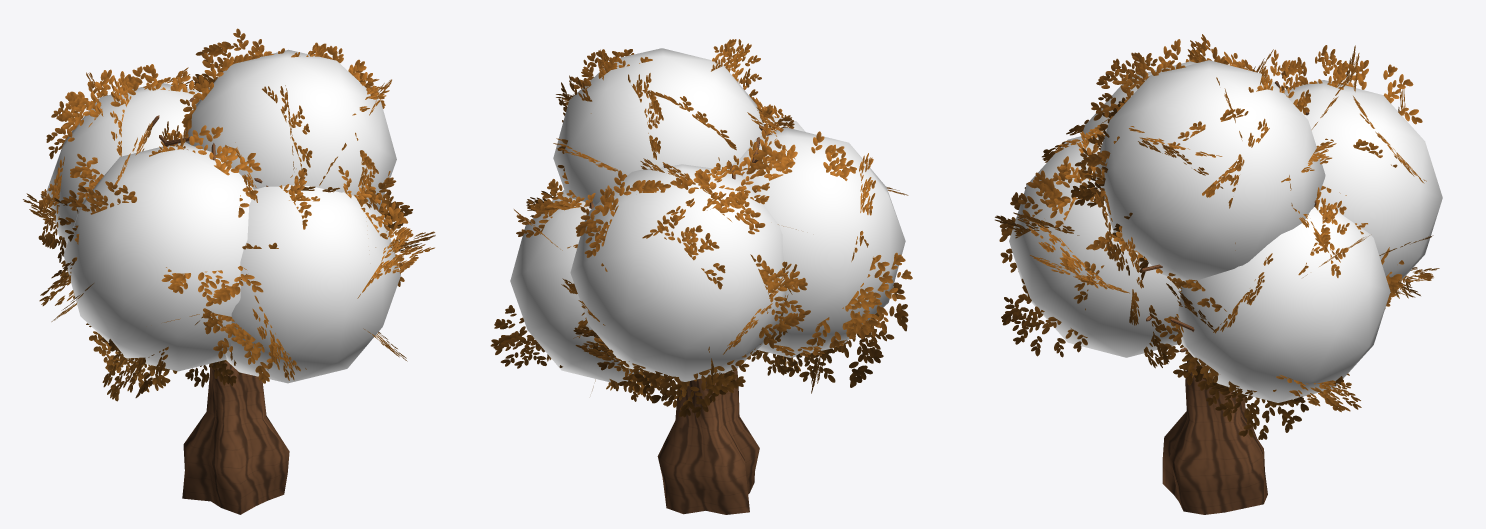
File: grown_autumn1.gltf
The picture shows the model from 3 angles, left to right: view 1: azimuth 30°, elevation 25°; view 2: azimuth 150°, elevation 25°; view 3: azimuth 270°, elevation 25°; orthographic projection. The views are drawn at different scales.
Visible parts, largest first — view 1: grown_autumn1_shadow_LOD0, grown_autumn1_leaves_LOD0, grown_autumn1_trunk_LOD0; view 2: grown_autumn1_shadow_LOD0, grown_autumn1_leaves_LOD0, grown_autumn1_trunk_LOD0; view 3: grown_autumn1_shadow_LOD0, grown_autumn1_leaves_LOD0, grown_autumn1_trunk_LOD0.
Part boxes in pixels (x1,y1,x2,y2): grown_autumn1_shadow_LOD0: (46, 49, 400, 383); grown_autumn1_leaves_LOD0: (23, 28, 435, 401); grown_autumn1_trunk_LOD0: (147, 97, 289, 514); grown_autumn1_shadow_LOD0: (510, 48, 905, 382); grown_autumn1_leaves_LOD0: (490, 39, 912, 417); grown_autumn1_trunk_LOD0: (589, 124, 770, 514); grown_autumn1_shadow_LOD0: (1009, 60, 1442, 402); grown_autumn1_leaves_LOD0: (995, 34, 1439, 439); grown_autumn1_trunk_LOD0: (1140, 81, 1316, 514).
Size of what is drawn, in the model's own units: 9.68 by 10.5 by 10.09.
3 materials, 2 textured.
